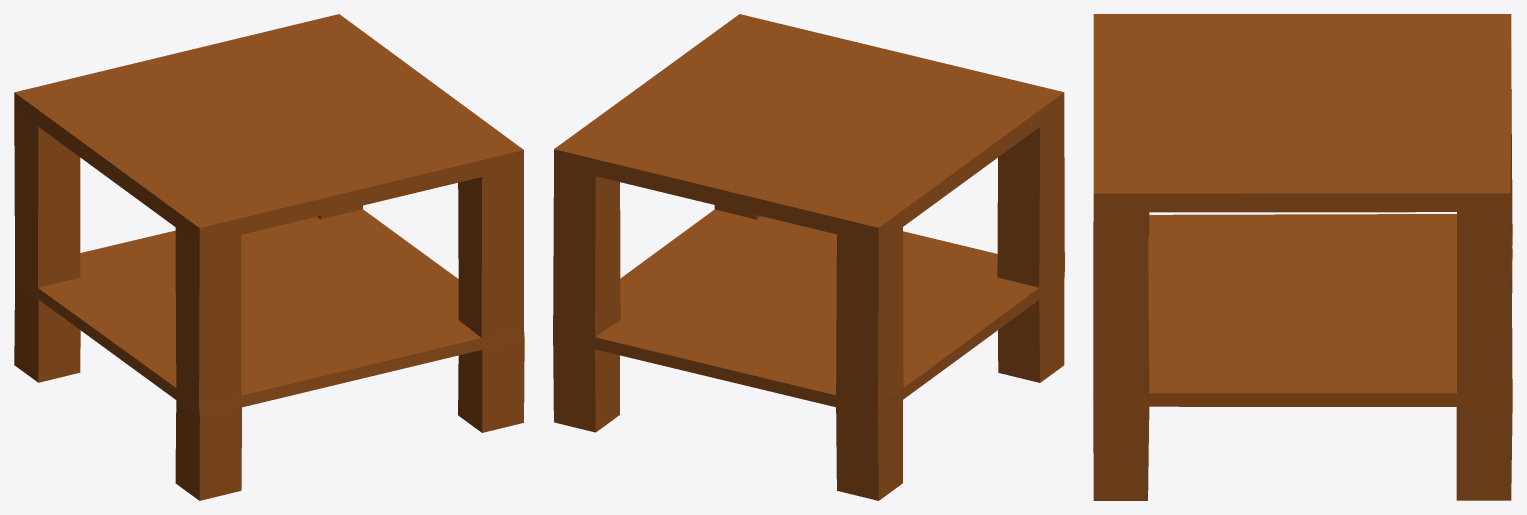
File: Mesita.fbx
The picture shows the model from 3 angles, left to right: view 1: azimuth 30°, elevation 25°; view 2: azimuth 150°, elevation 25°; view 3: azimuth 270°, elevation 25°; orthographic projection. The views are drawn at different scales.
Visible parts, largest first — view 1: Cube.003; view 2: Cube.003; view 3: Cube.003.
Part boxes in pixels (x1,y1,x2,y2): Cube.003: (14, 14, 524, 500); Cube.003: (553, 14, 1064, 500); Cube.003: (1093, 14, 1512, 500).
Size of the model in its own units: 0.3487 by 0.2802 by 0.3449.
